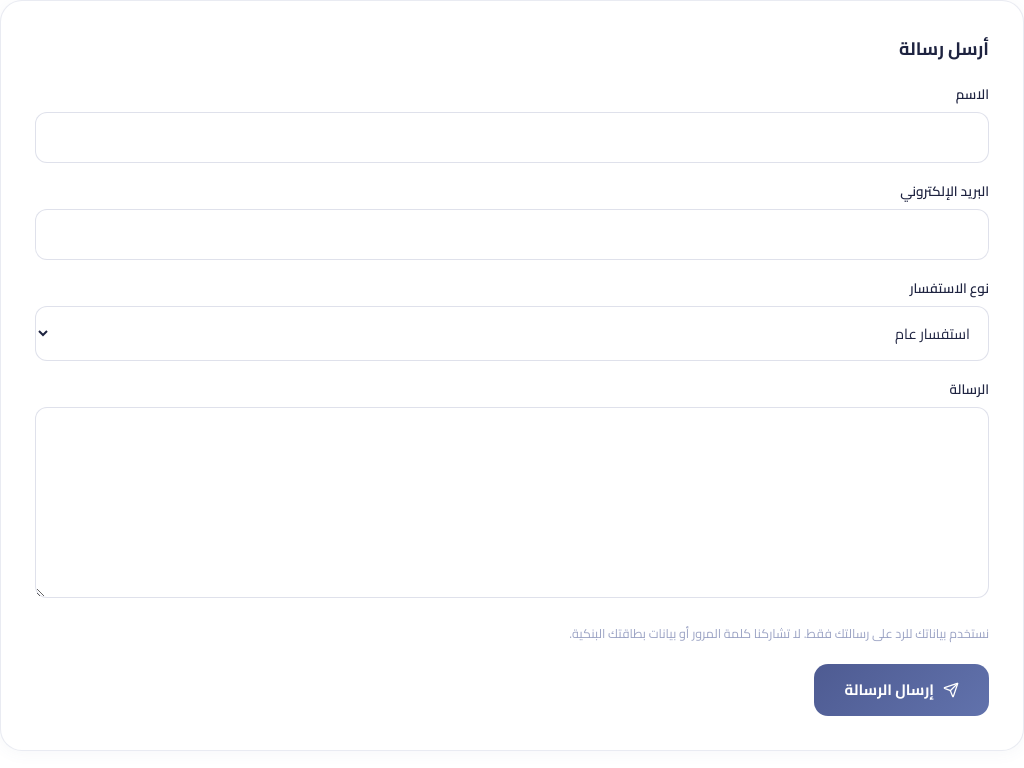
it: a successful submission › sends the trimmed fields and shows the success screen
Type "سارة أحمد" into the field labelled "الاسم".
click(512, 137); type("سارة أحمد")  # box [35,112,989,163]
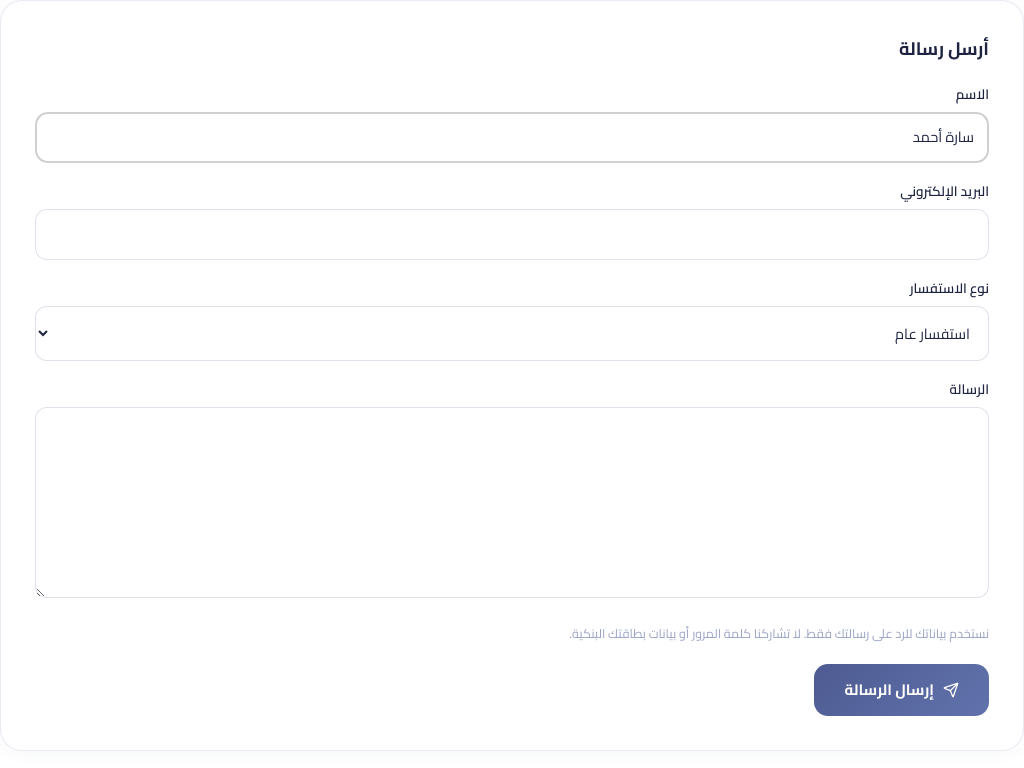
Type "sara@example.com" into the field labelled "البريد الإلكتروني".
click(512, 234); type("sara@example.com")  # box [35,209,989,260]
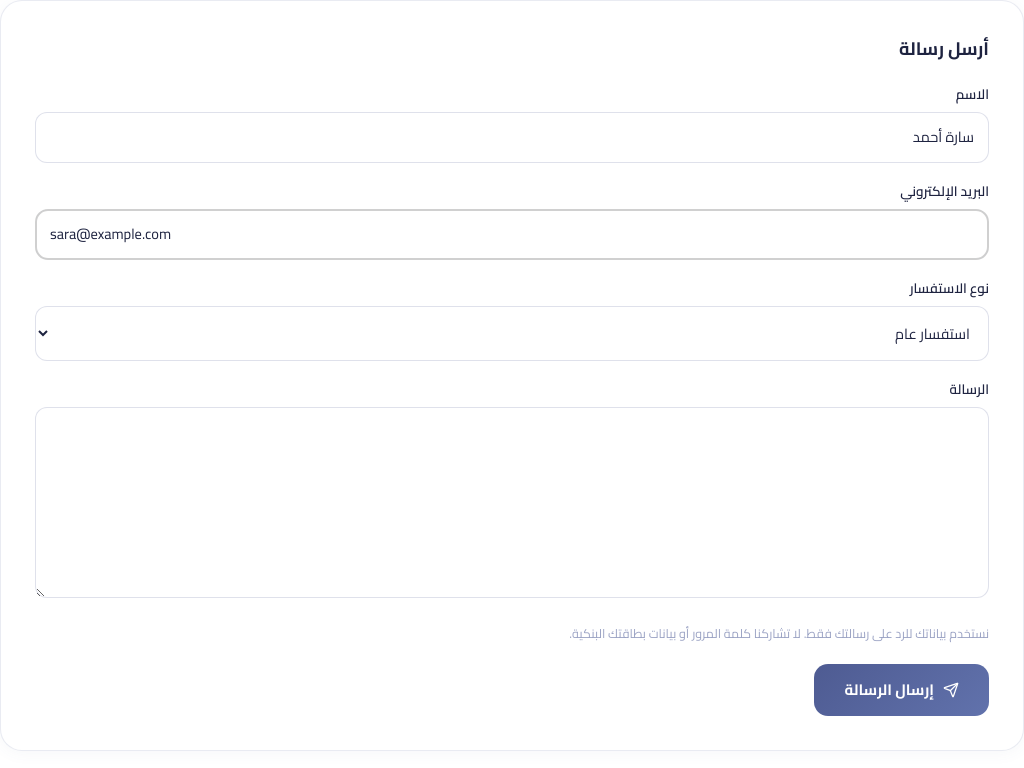
Type "متى تبدأ الدورة القادمة؟" into the text box labelled "الرسالة".
click(512, 503); type("متى تبدأ الدورة القادمة؟")  # box [35,407,989,598]
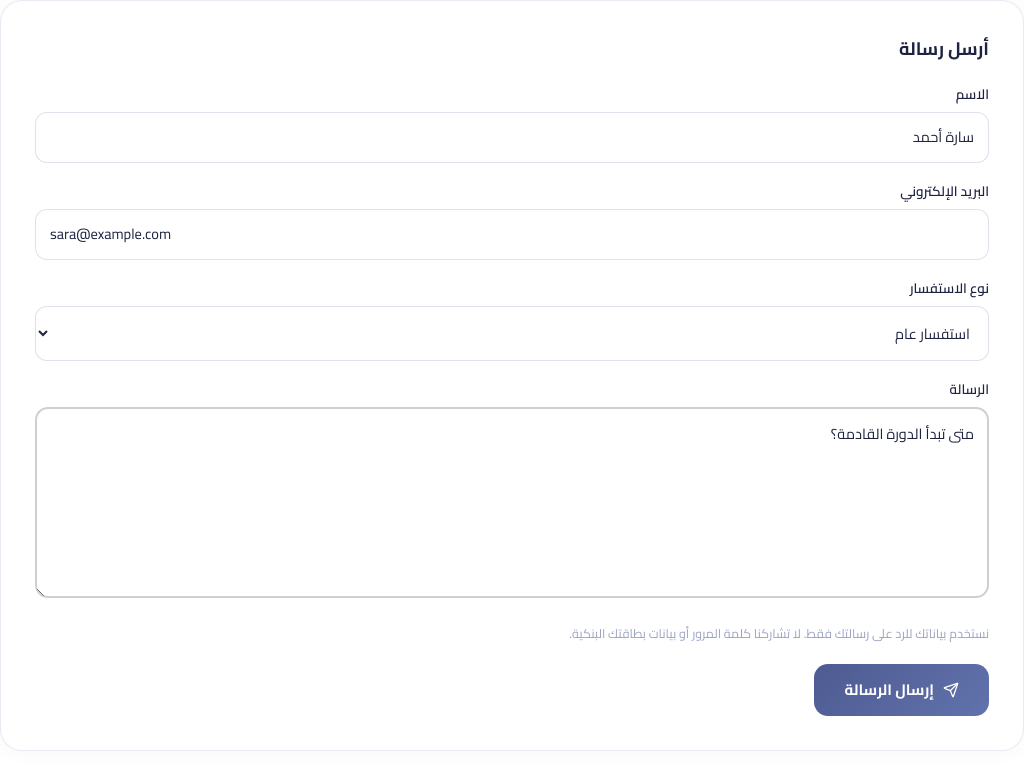
Select "الدورات" in the dropdown labelled "نوع الاستفسار" at x=512, y=333, box [35,306,989,361]
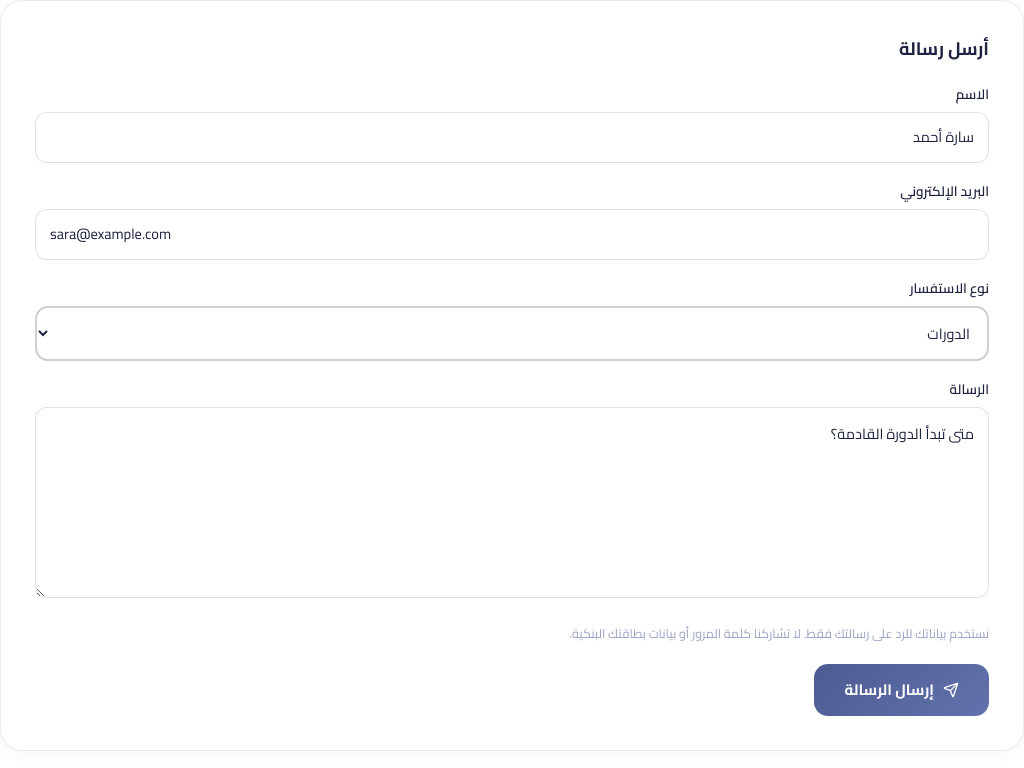
Click the button "إرسال الرسالة".
click(902, 690)  # box [814,664,989,716]
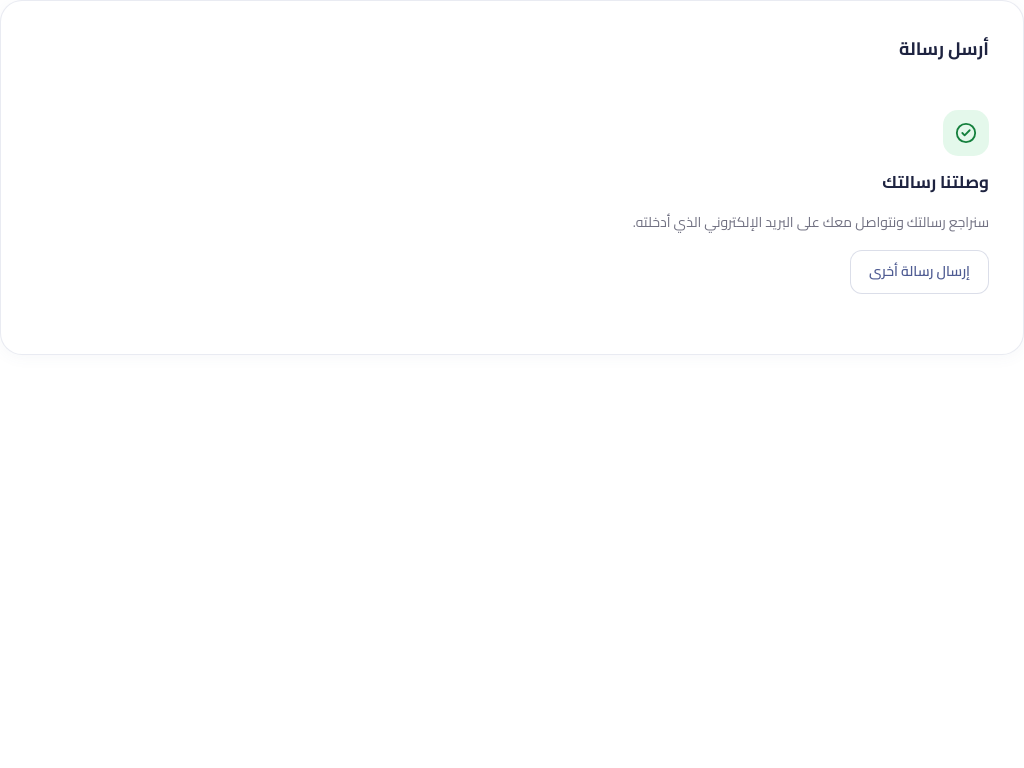
expect the message shows "وصلتنا رسالتك": met, box [882,166,989,198]
